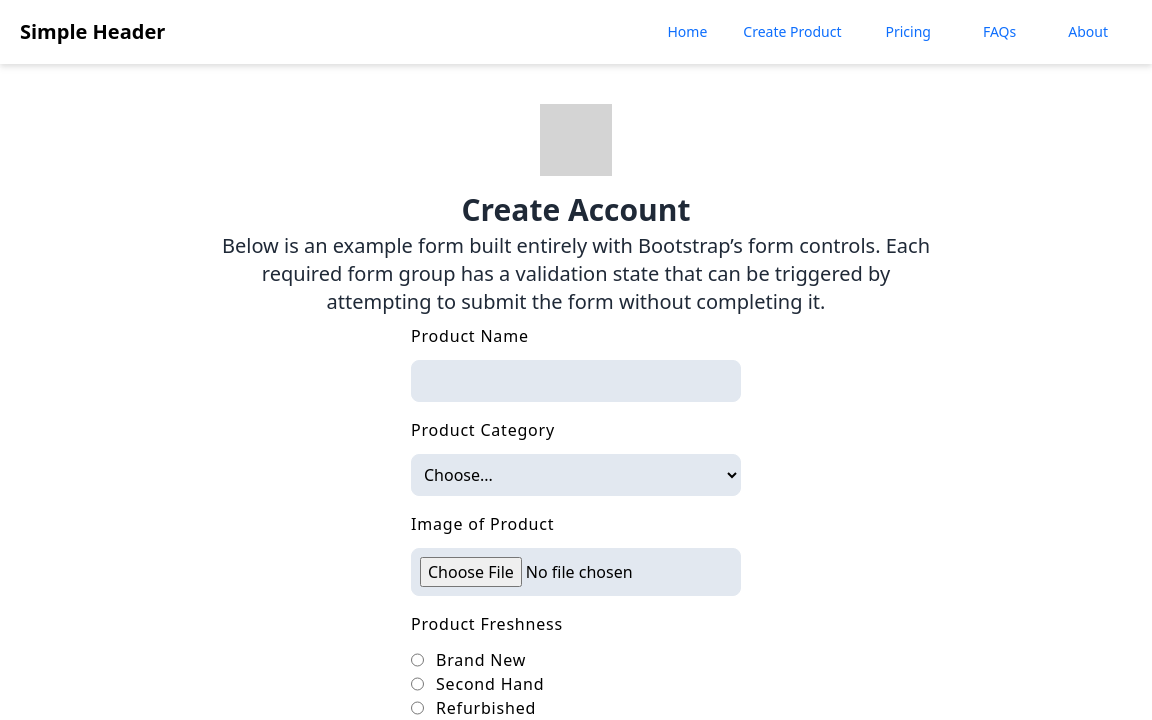
it: Index Product Page › Action for Product › Product Name Empty
expect the text "Please enter a valid product name" is not shown: met
Clear the field named "input-product-name" at coordinates (576, 381), box [411,360,741,402]
(page scrolled)
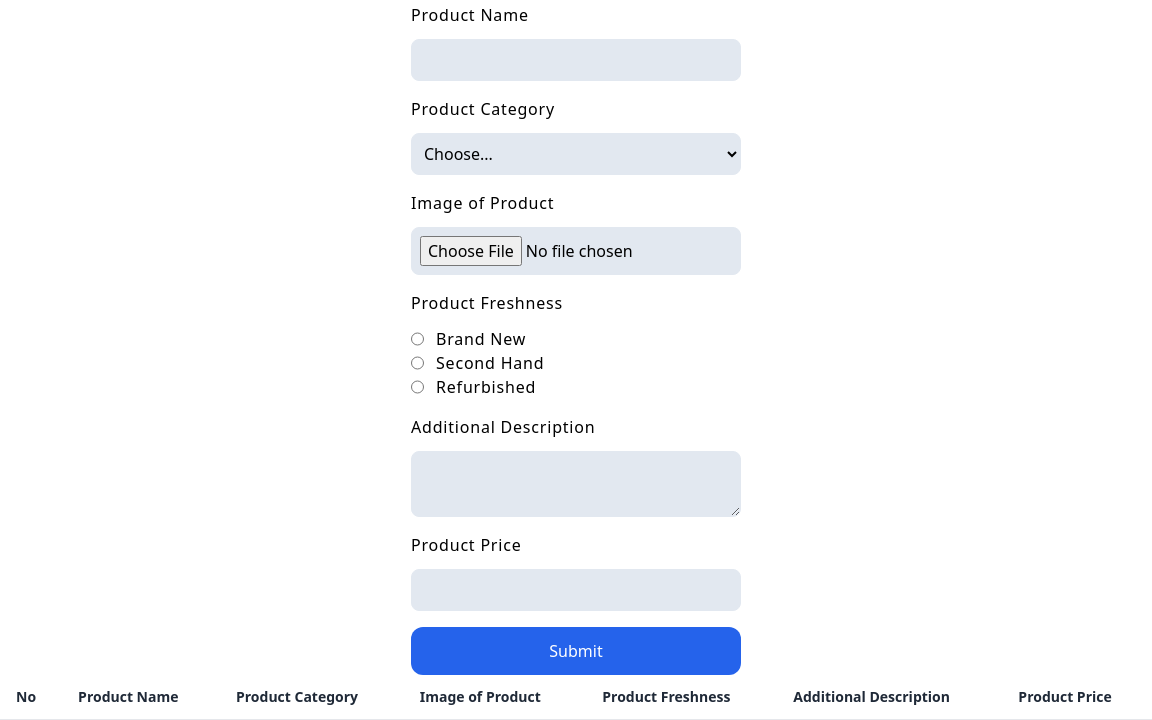
Click the button with aria-label "btn-submit" at coordinates (576, 651), box [411,627,741,675]
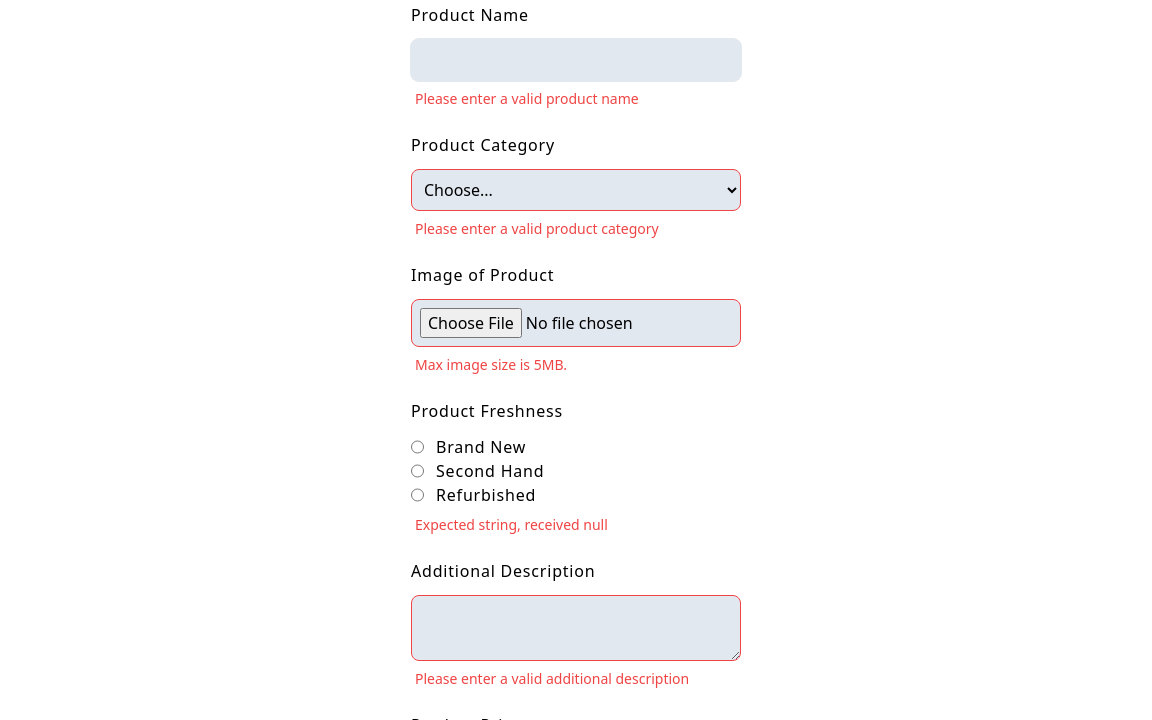
expect the text "Please enter a valid product name" is shown: met, box [415,89,639,109]
